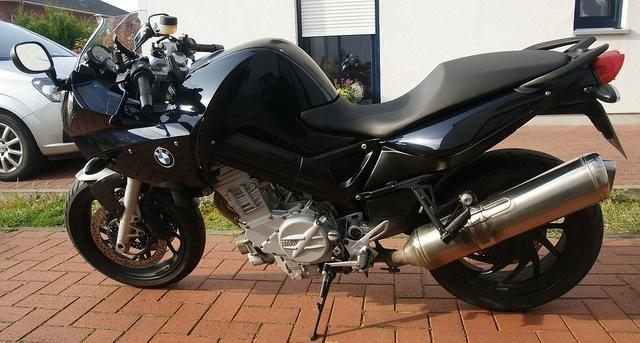car: (1, 20, 87, 182)
motorcycle: (13, 8, 628, 340)
